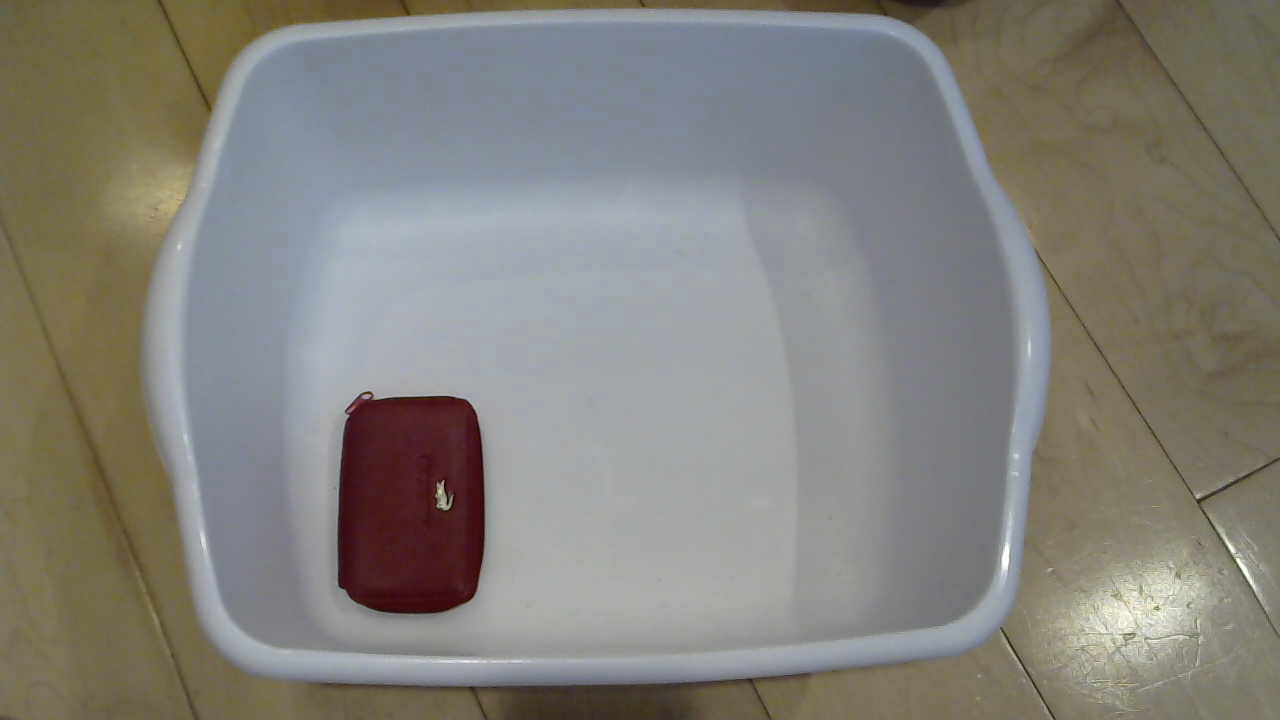wallet: (321, 385, 509, 616)
